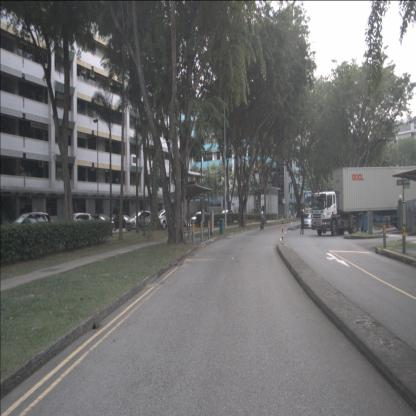human-pedestrian-adult: (300, 210, 304, 235), (260, 211, 264, 228)
vehicle-car: (5, 212, 53, 240), (125, 210, 156, 232), (66, 212, 92, 233), (87, 215, 115, 234), (154, 209, 179, 230), (111, 214, 134, 231), (190, 210, 209, 226), (302, 213, 314, 229)
vehicle-motorcycle: (260, 210, 265, 231)
vehicle-truck: (311, 191, 359, 236)
